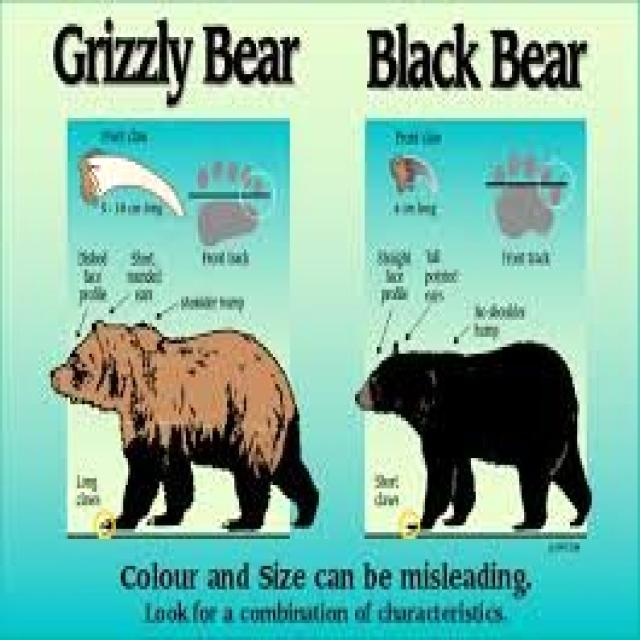bear: (54, 316, 336, 546), (354, 339, 605, 534)
